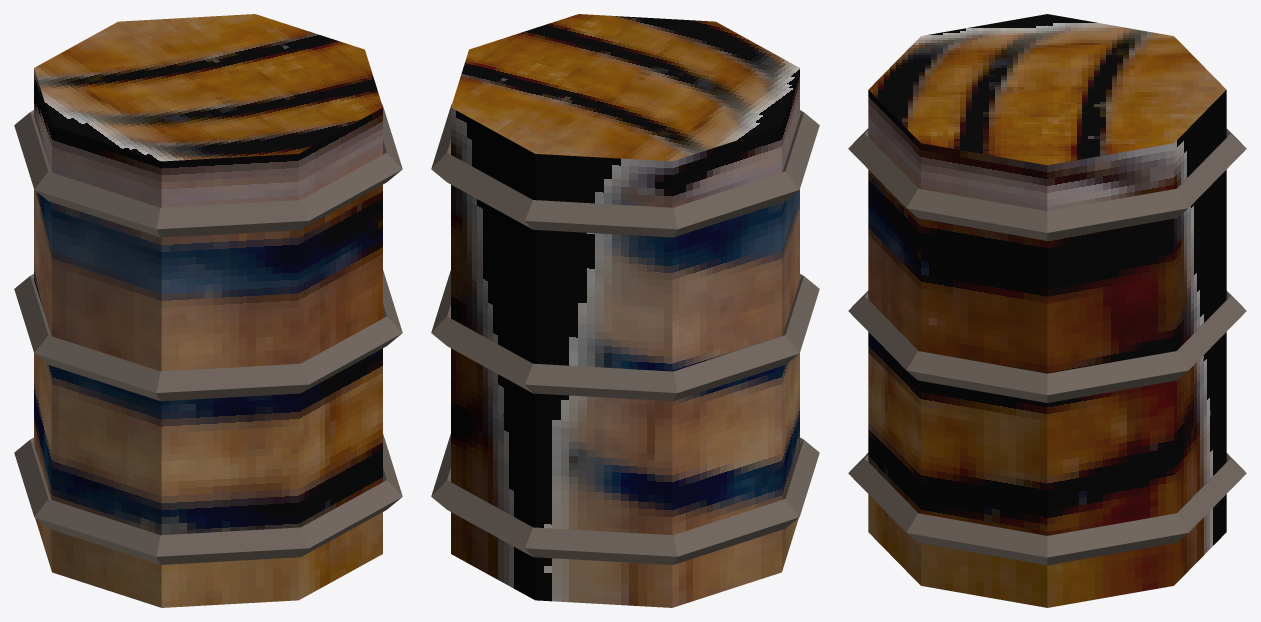
File: barrel.glb
3 renders of one model, left to right at view 1: azimuth 30°, elevation 25°; view 2: azimuth 150°, elevation 25°; view 3: azimuth 270°, elevation 25°, orthographic.
Parts seen in each view (by area): view 1: Barrel; view 2: Barrel; view 3: Barrel.
Part boxes in pixels (x1,y1,x2,y2): Barrel: (14,14,402,607); Barrel: (431,14,819,607); Barrel: (848,14,1246,607).
Bounding box in the file's own units: 0.49 × 0.6 × 0.49.
Materials: 2 (1 with a texture image).
